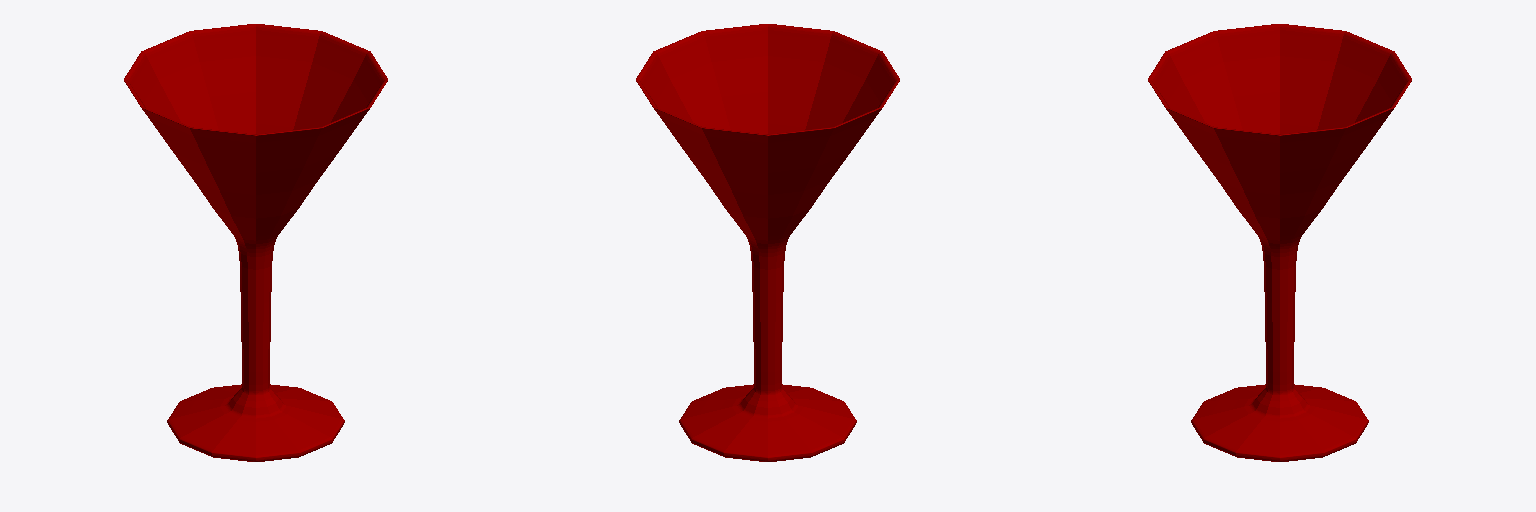
Rendered from copasRoja.obj.
3 renders of one model, left to right at view 1: azimuth 30°, elevation 25°; view 2: azimuth 150°, elevation 25°; view 3: azimuth 270°, elevation 25°, orthographic.
Parts seen in each view (by area): view 1: Lathe_NURBS7; view 2: Lathe_NURBS7; view 3: Lathe_NURBS7.
Part boxes in pixels (x1,y1,x2,y2): Lathe_NURBS7: (124,24,387,461); Lathe_NURBS7: (636,24,899,461); Lathe_NURBS7: (1148,24,1411,461).
Bounding box in the file's own units: 0.3829 × 0.5631 × 0.3829.